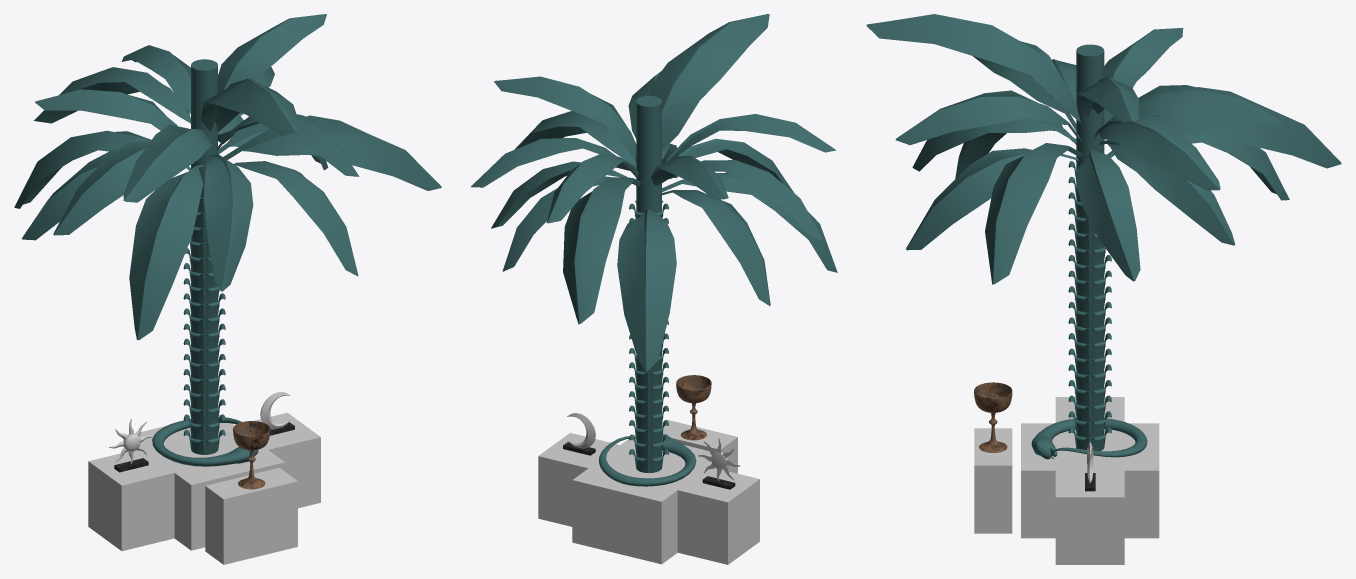
The model's file is Palm.fbx.
3 views of the same model, side by side, from view 1: azimuth 30°, elevation 25°; view 2: azimuth 150°, elevation 25°; view 3: azimuth 270°, elevation 25° (orthographic). The views are drawn at different scales.
Parts seen in each view (by area): view 1: Circle, Cube, Cube.002, Cylinder.001, Cylinder, BezierCurve.001, chalice, Circle.001; view 2: Circle, Cube, Cylinder.001, Cylinder, BezierCurve.001, Cube.002, chalice, Circle.001; view 3: Circle, Cube, Cylinder.001, Cylinder, Cube.002, BezierCurve.001, chalice.
Boxes of the visible parts, box(x1,y1,x2,y2) form: Circle: box(14, 14, 441, 339); Cube: box(88, 412, 320, 551); Cube.002: box(205, 468, 297, 564); Cylinder.001: box(183, 186, 225, 454); Cylinder: box(191, 59, 218, 454); BezierCurve.001: box(152, 417, 258, 466); chalice: box(233, 421, 270, 489); Circle.001: box(109, 418, 153, 463); Circle: box(471, 14, 837, 371); Cube: box(538, 433, 759, 564); Cylinder.001: box(629, 200, 668, 472); Cylinder: box(636, 96, 661, 472); BezierCurve.001: box(599, 434, 696, 486); Cube.002: box(662, 420, 737, 473); chalice: box(676, 375, 711, 440); Circle.001: box(697, 438, 739, 481); Circle: box(866, 14, 1341, 284); Cube: box(1021, 397, 1159, 564); Cylinder.001: box(1068, 160, 1111, 450); Cylinder: box(1076, 44, 1104, 449); Cube.002: box(974, 428, 1012, 533); BezierCurve.001: box(1031, 418, 1147, 459); chalice: box(974, 382, 1012, 452).
Bounding box in the file's own units: 117 × 150 × 130.
